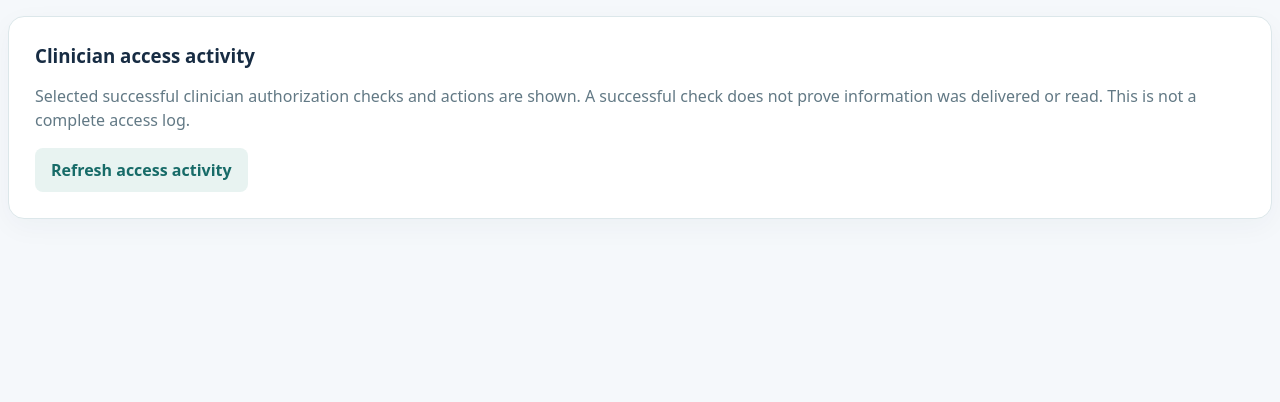
Test: shows bounded clinician activity and loads older events
The width and height of the screenshot is (1280, 402).
Click the button "Refresh access activity".
click(141, 170)  # box [35, 148, 248, 192]
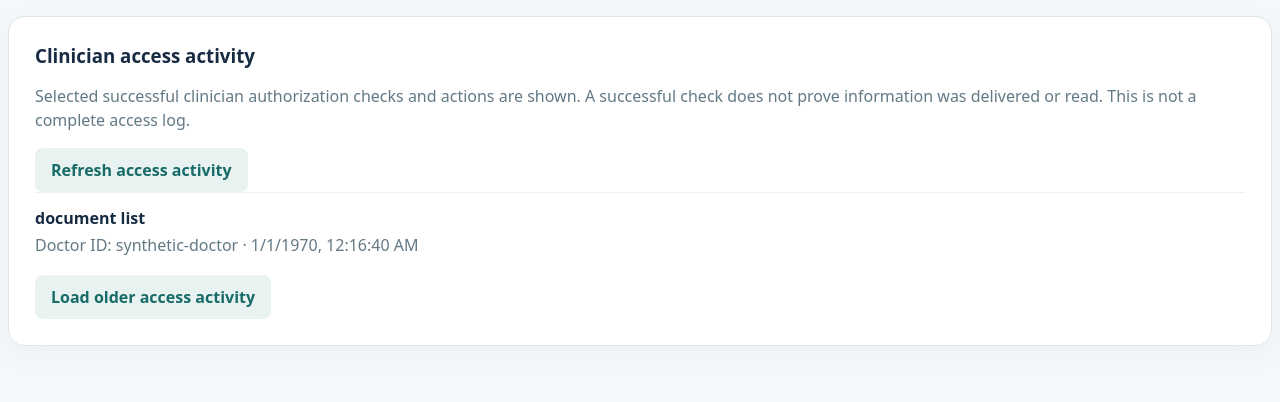
Click the button "Load older access activity".
click(153, 297)  # box [35, 275, 271, 319]
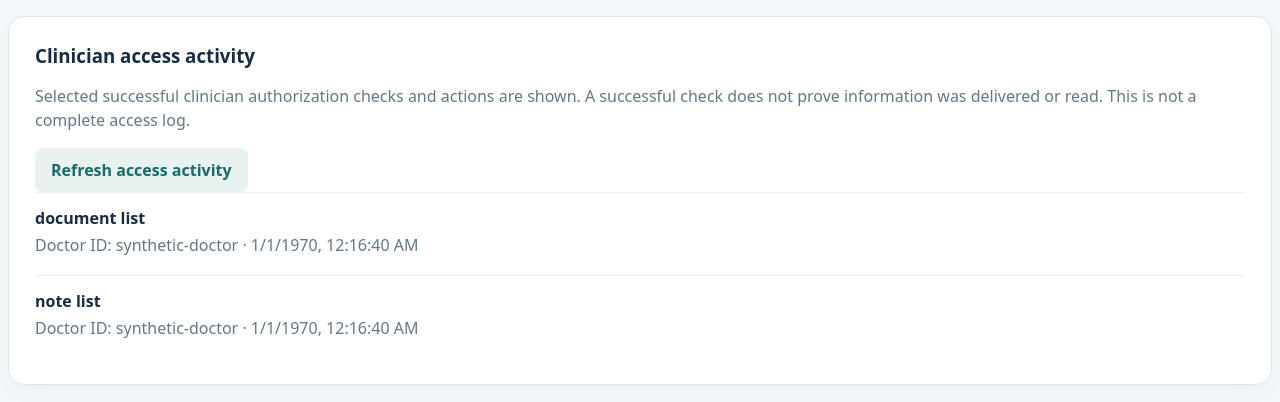
Expected: the text "document list" is shown, [35, 207, 145, 229]
Expected: the text "note list" is shown, [35, 290, 101, 312]
